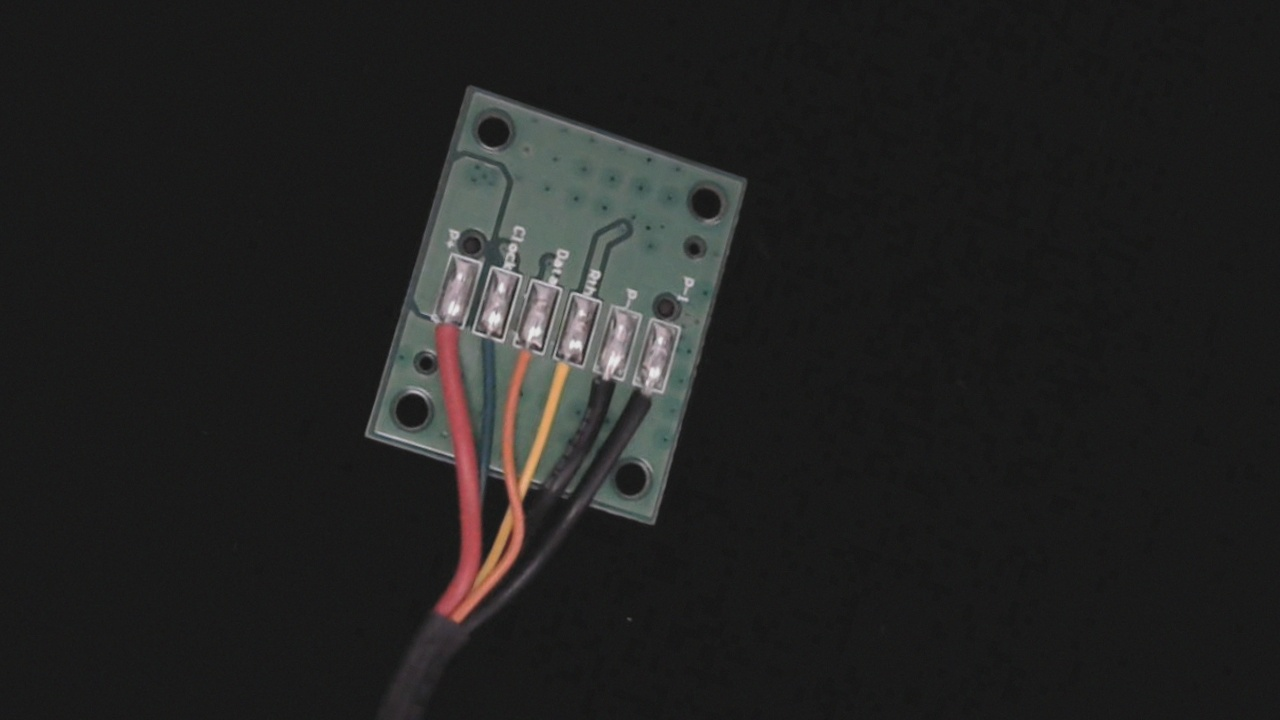Black: (571, 355, 632, 444)
Black1: (618, 364, 676, 447)
Green: (454, 312, 514, 394)
Orange: (492, 328, 552, 416)
Red: (413, 301, 473, 388)
Yellow: (534, 338, 595, 429)
